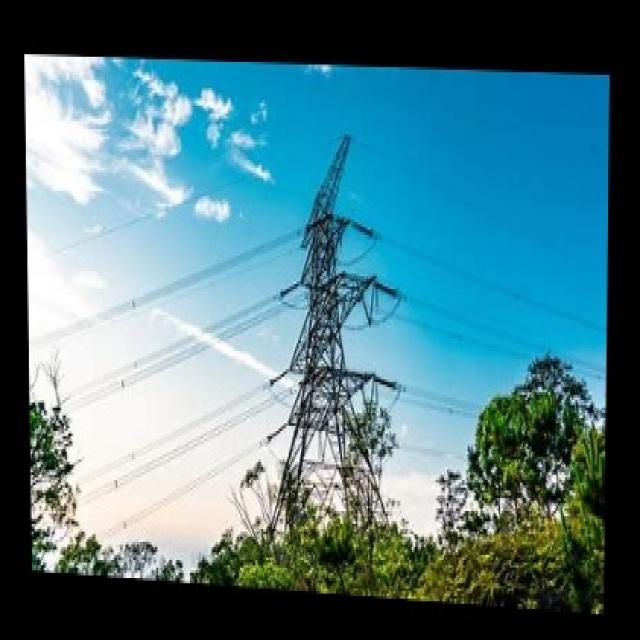utility poles: (450, 295, 571, 471), (316, 354, 398, 501)
